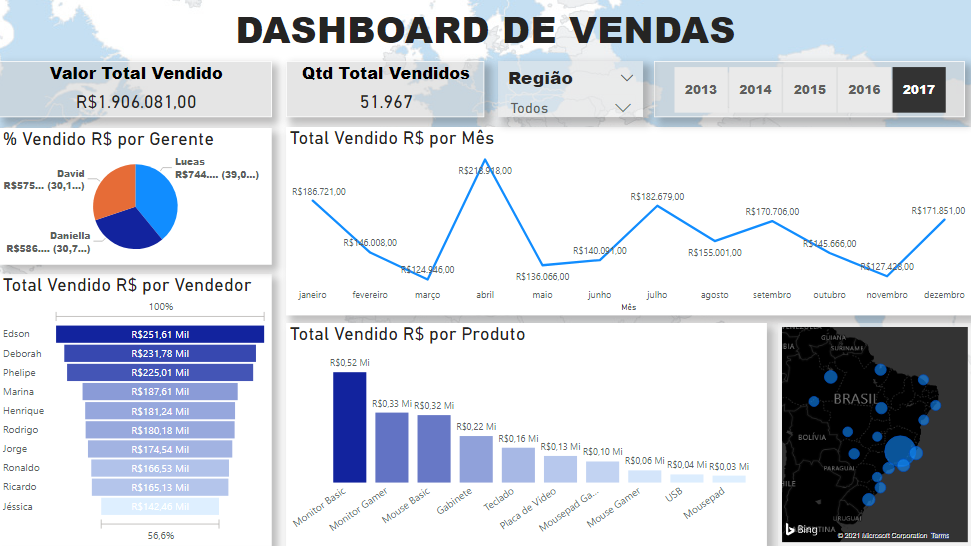

The dashboard page shown, as its layout file describes it:
{"tool":"powerbi","page":{"name":"Página 1","canvas":[1280,720],"ordinal":0},"visuals":[{"type":"card","title":"Valor Total Vendido","fields":{"Values":["Vendas.M Total Vendido R$"]},"box":[0,81.1,359.3,73.9],"z":0},{"type":"card","title":"Qtd Total Vendidos","fields":{"Values":["Vendas.Quantidade Medida"]},"box":[378.1,81.1,260.8,73.9],"z":1000},{"type":"lineChart","title":"Total Vendido R$ por Mês","fields":{"Category":["Vendas.Data.Variation.Hierarquia de datas.Mês"],"Y":["Vendas.M Total Vendido R$"]},"box":[378.1,168,902.5,247.7],"z":2000},{"type":"slicer","fields":{"Values":["Vendas.Data.Variation.Hierarquia de datas.Ano"]},"box":[862,81.1,408.5,73.9],"z":3000},{"type":"clusteredColumnChart","title":"Total Vendido R$ por Produto","fields":{"Category":["Vendas.Produto"],"Y":["Vendas.M Total Vendido R$"]},"box":[378.1,425.9,633.1,294.1],"z":4000},{"type":"funnel","title":"Total Vendido R$ por Vendedor","fields":{"Category":["Vendas.Vendedor"],"Y":["Vendas.M Total Vendido R$"]},"box":[0,362.2,359.3,357.8],"z":5000},{"type":"pieChart","title":"% Vendido R$ por Gerente","fields":{"Category":["Vendas.Gerente"],"Y":["Vendas.M Total Vendido R$"]},"box":[0,169.5,359.3,179.6],"z":6000},{"type":"slicer","fields":{"Values":["Vendas.Região"]},"box":[656.3,81.1,191.2,73.9],"z":7000},{"type":"textbox","box":[0,0,1280.6,81.1],"z":8000},{"type":"map","fields":{"Category":["Vendas.Estado","Vendas.Cidade","Vendas.Região"],"Size":["Vendas.M Total Vendido R$"]},"box":[1025.7,425.9,255,294.1],"z":9000}]}

Visuals, with their boxes in screenshot pixels (x1, y1, x2, y2), scaled from the page's 1280x720 canvas onto the 971x546 screenshot:
"Valor Total Vendido" card: l=0, t=62, r=273, b=118
"Qtd Total Vendidos" card: l=287, t=62, r=485, b=118
"Total Vendido R$ por Mês" lineChart: l=287, t=127, r=970, b=315
slicer - Vendas.Data.Variation.Hierarquia de datas.Ano: l=654, t=62, r=964, b=118
"Total Vendido R$ por Produto" clusteredColumnChart: l=287, t=323, r=767, b=545
"Total Vendido R$ por Vendedor" funnel: l=0, t=275, r=273, b=545
"% Vendido R$ por Gerente" pieChart: l=0, t=129, r=273, b=265
slicer - Vendas.Região: l=498, t=62, r=643, b=118
textbox: l=0, t=0, r=970, b=62
map - Vendas.Estado x Vendas.Cidade: l=778, t=323, r=970, b=545
